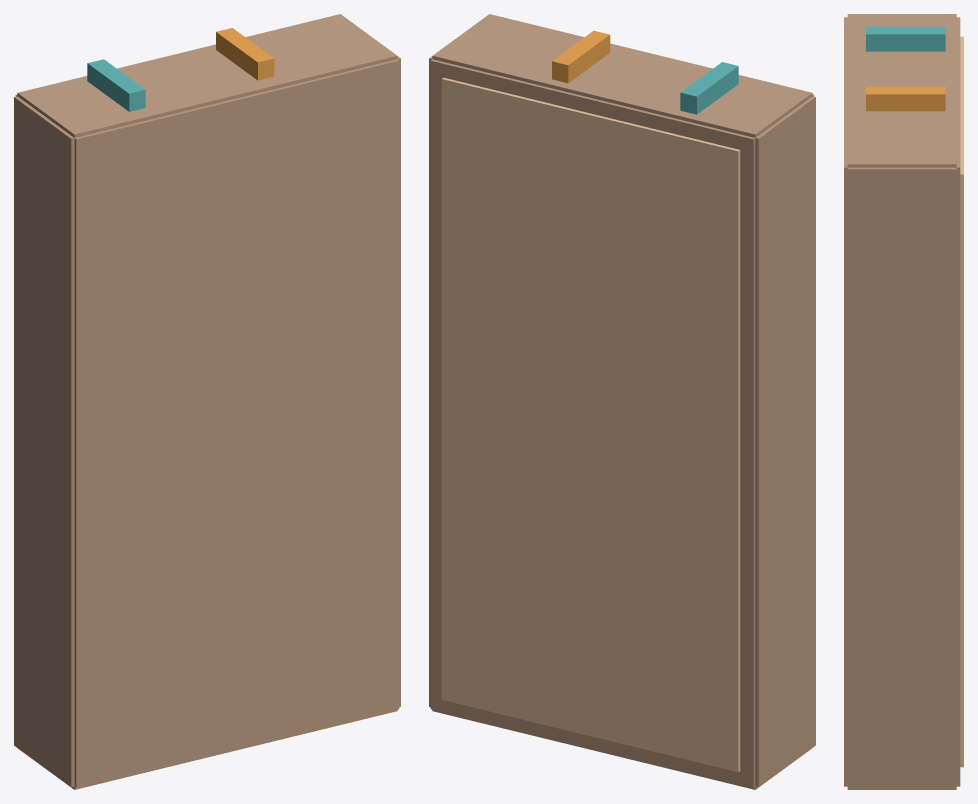
File: bookshelf.glb
The picture shows the model from 3 angles, left to right: view 1: azimuth 30°, elevation 25°; view 2: azimuth 150°, elevation 25°; view 3: azimuth 270°, elevation 25°; orthographic projection. The views are drawn at different scales.
Parts seen in each view (by area): view 1: bookshelf; view 2: bookshelf; view 3: bookshelf.
Boxes of the visible parts, x1=… form: bookshelf: x1=14, y1=14, x2=400, y2=789; bookshelf: x1=429, y1=14, x2=815, y2=789; bookshelf: x1=844, y1=14, x2=963, y2=789.
Size of the model in its own units: 1 by 1.95 by 0.33.
